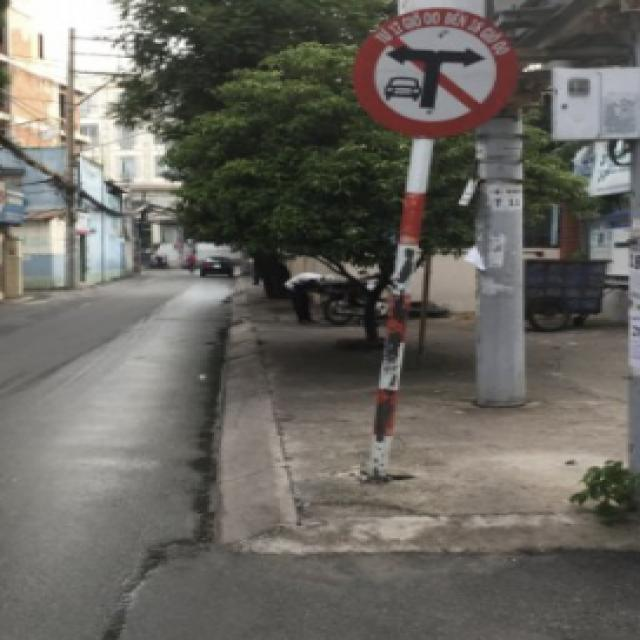137-cam-re-trai-va-re-phai: (350, 9, 518, 140)
